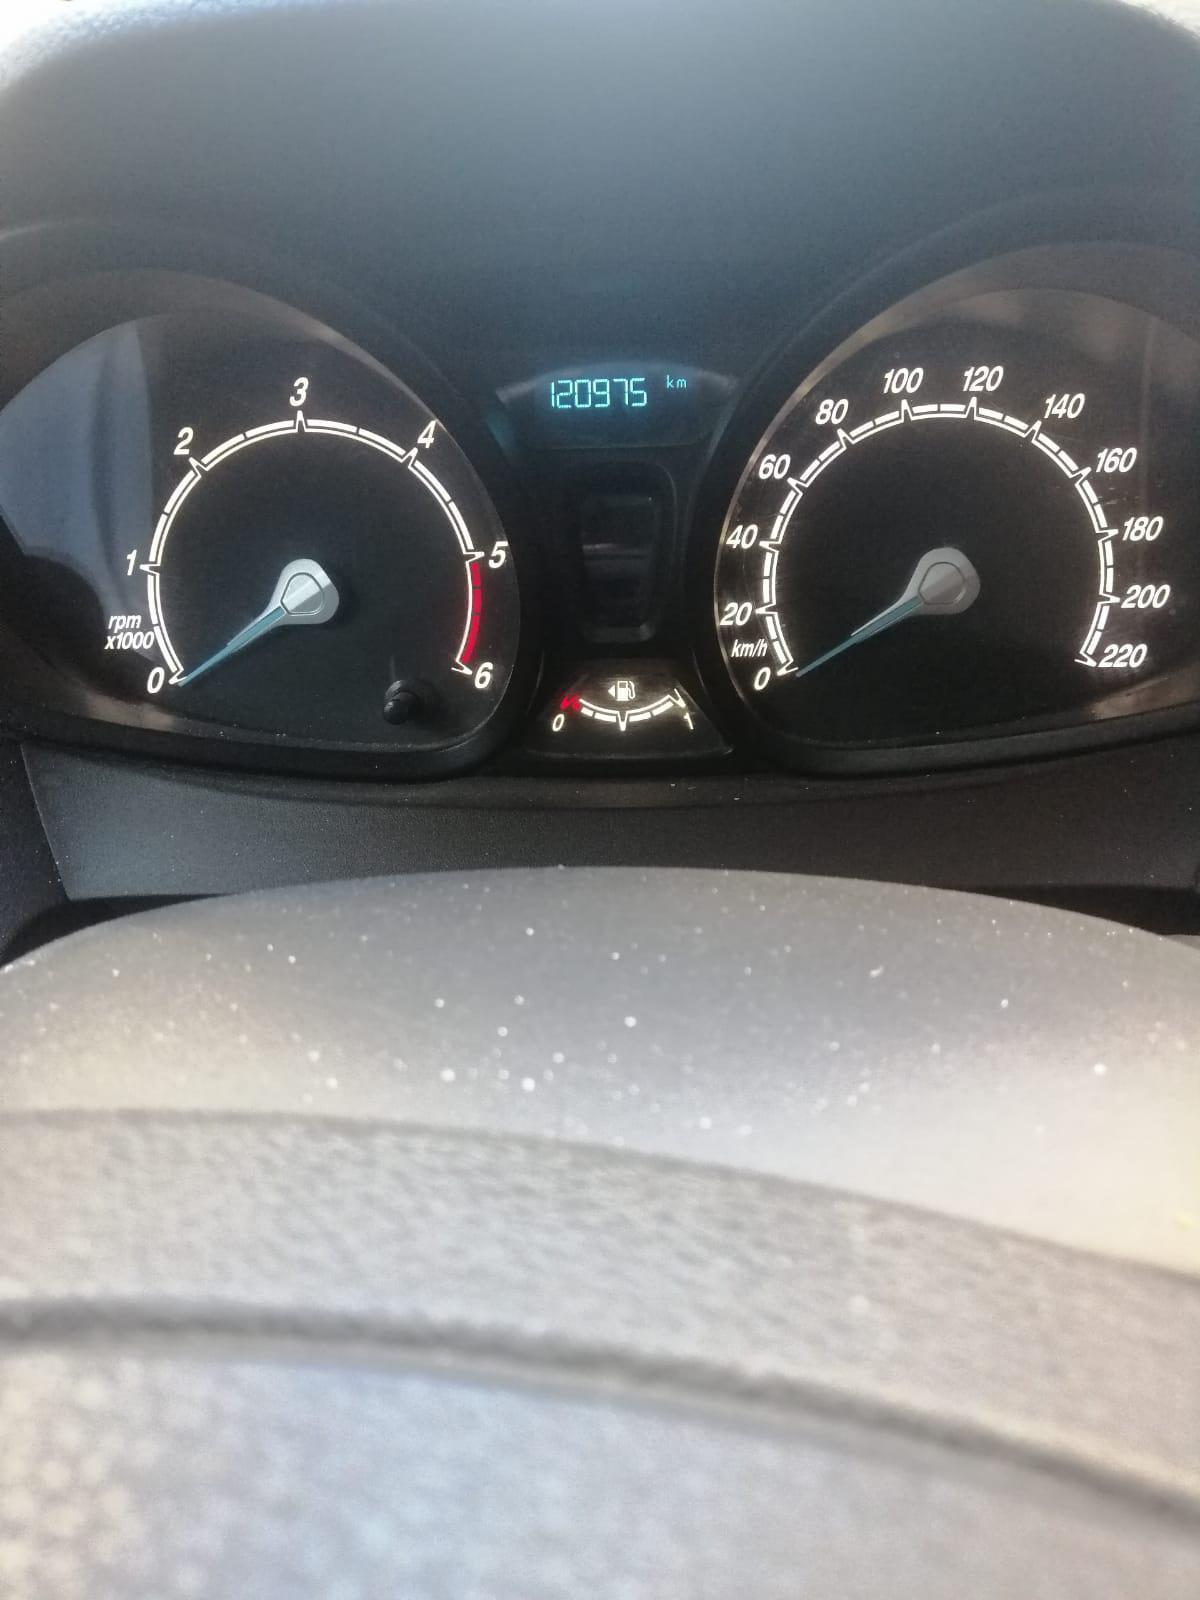0: (574, 377, 592, 409)
1: (547, 378, 557, 409)
2: (557, 378, 574, 408)
5: (629, 375, 648, 407)
7: (613, 377, 628, 406)
9: (592, 375, 610, 408)
X: (666, 373, 674, 388), (676, 378, 687, 389)
odometer: (534, 359, 705, 435)
